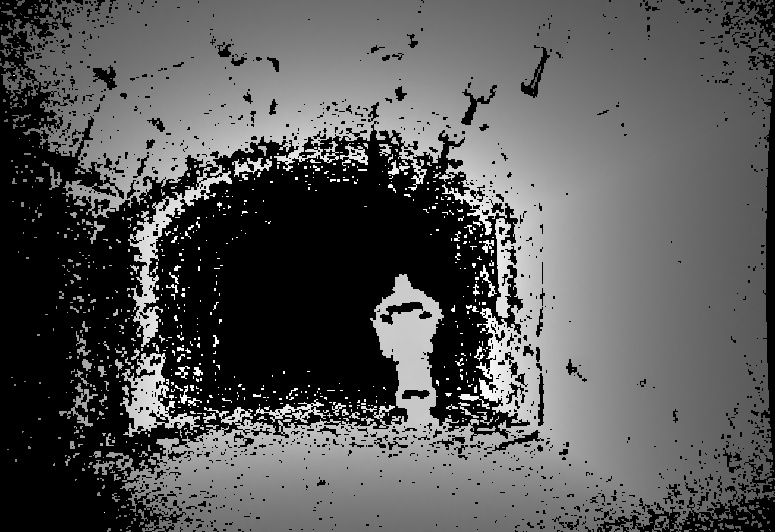person: (370, 270, 444, 424)
